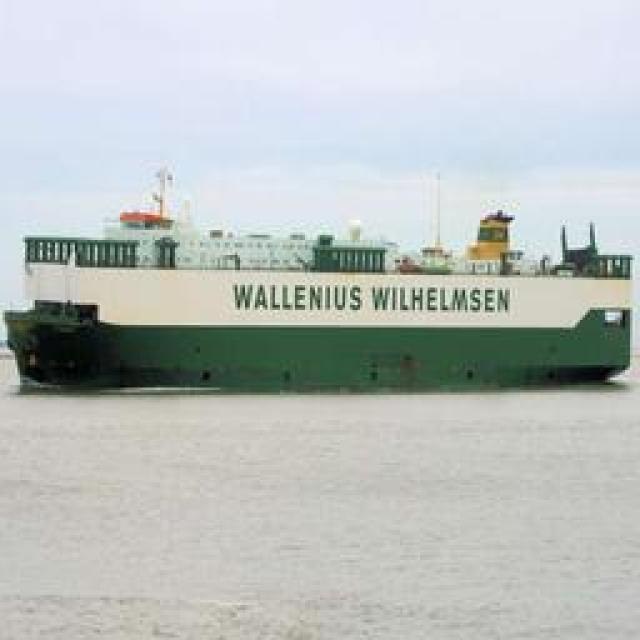ship2: (4, 158, 635, 396)
